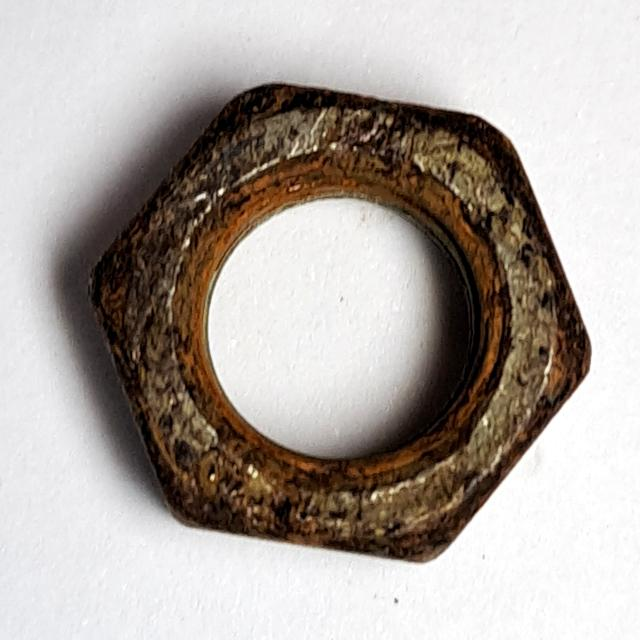Rust: (72, 72, 611, 576)
